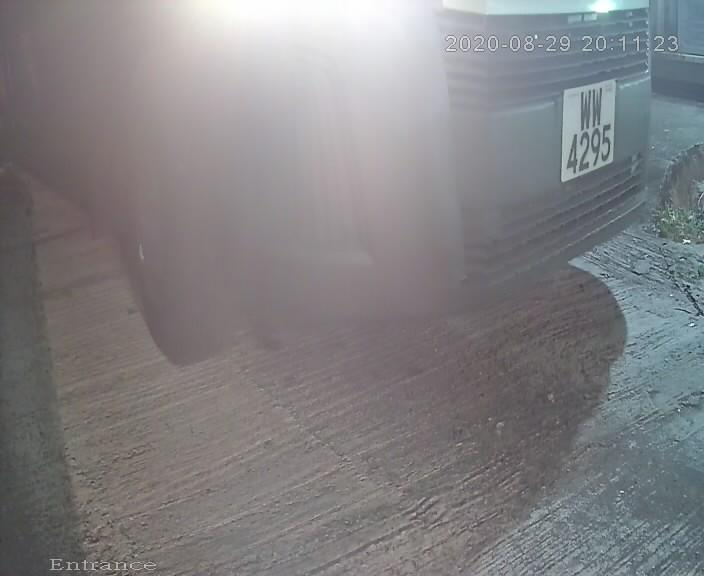License Plate: (551, 62, 626, 193)
